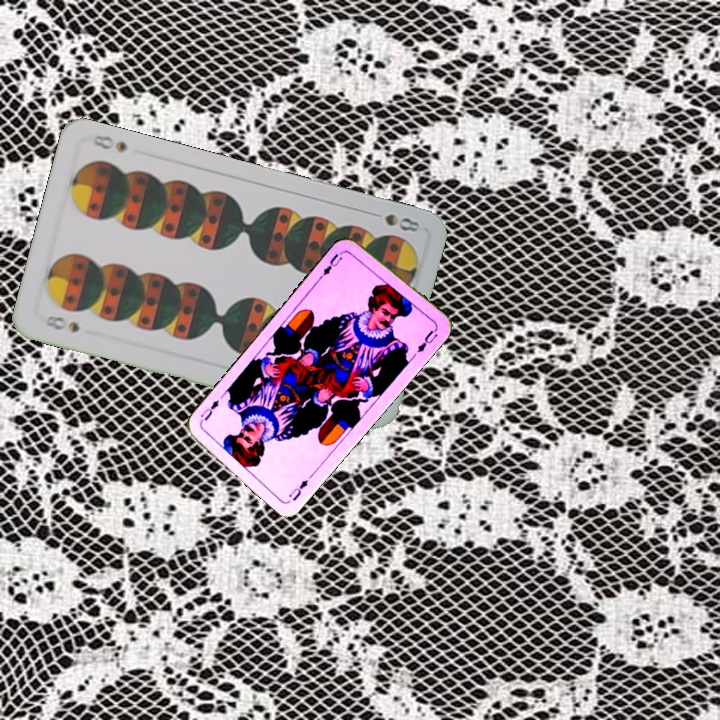EU: (317, 247, 349, 282), (284, 475, 311, 503)
S8: (365, 207, 422, 235), (41, 311, 82, 335)
